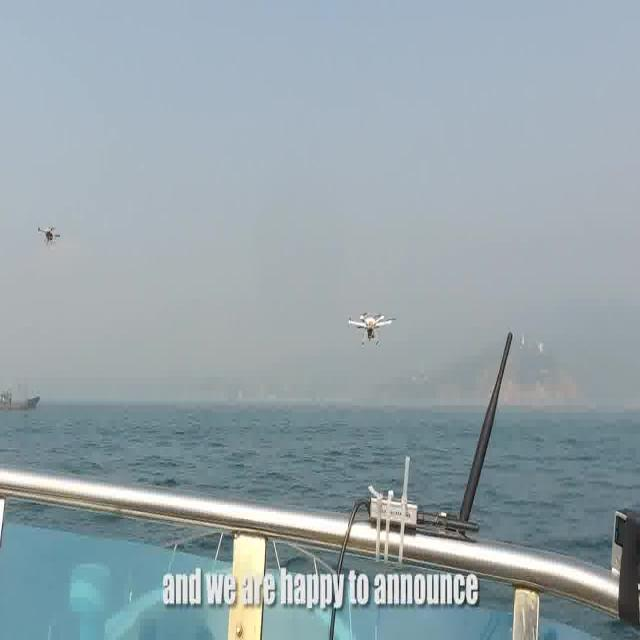drone: (344, 307, 398, 350), (36, 220, 61, 250)
